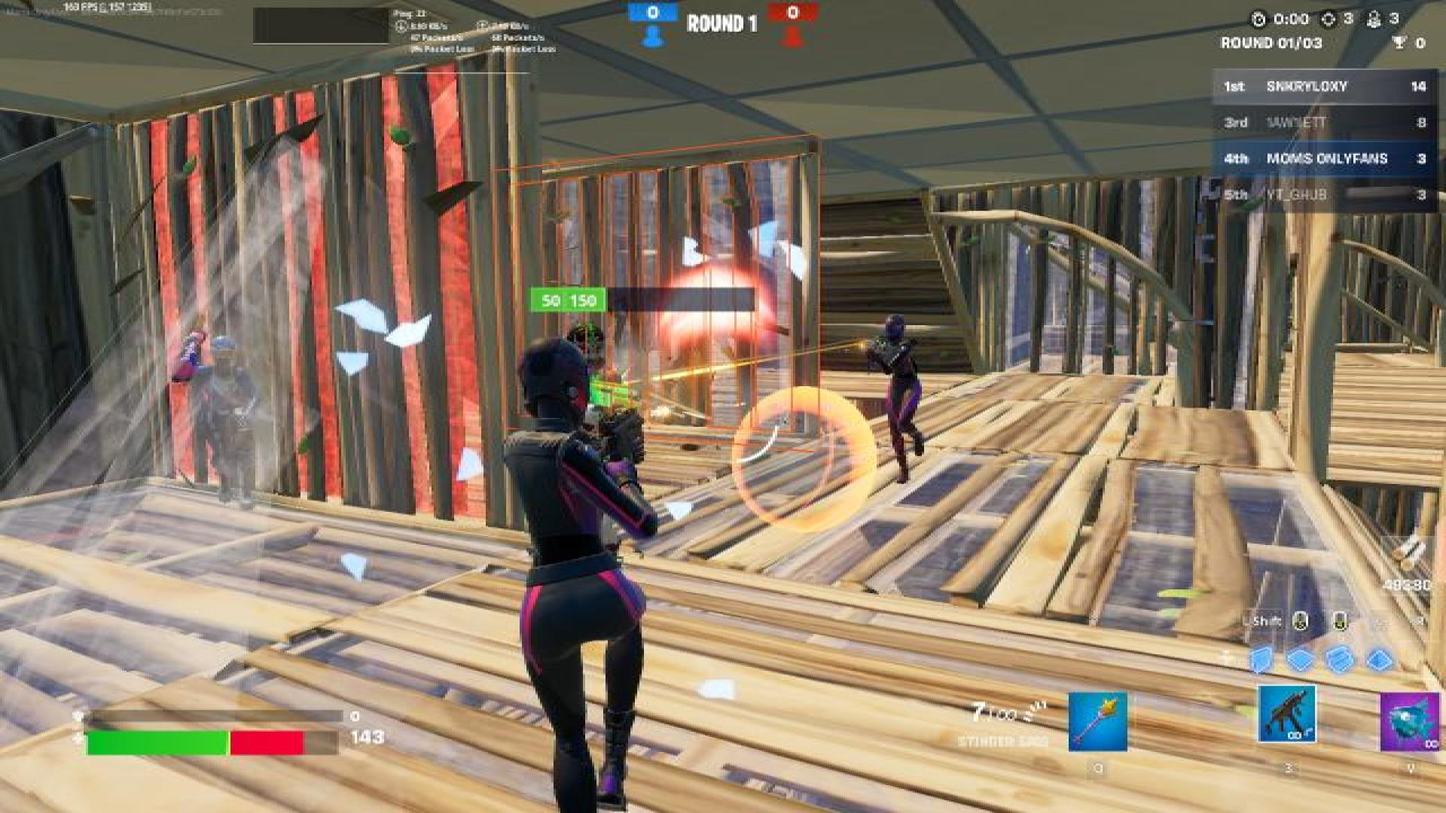player: (163, 331, 273, 511), (861, 313, 956, 498), (569, 318, 646, 398)
